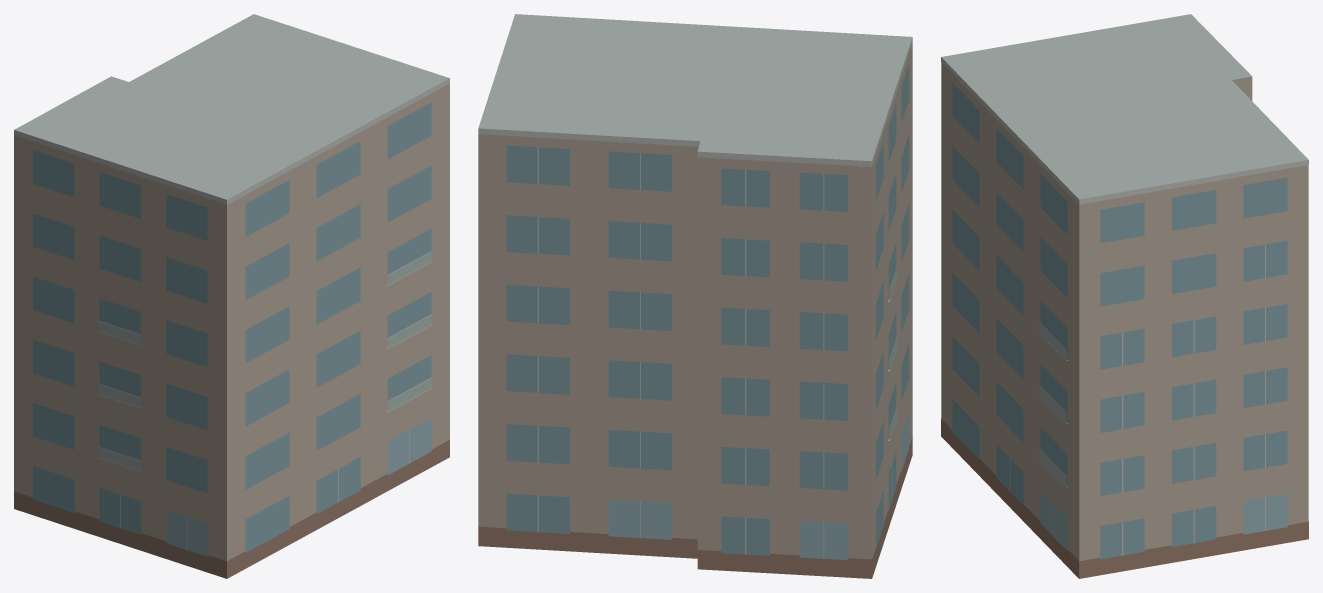
Rendered from survey-upis-33009608.glb.
The picture shows the model from 3 angles, left to right: view 1: azimuth 30°, elevation 25°; view 2: azimuth 150°, elevation 25°; view 3: azimuth 270°, elevation 25°; orthographic projection. The views are drawn at different scales.
Parts seen in each view (by area): view 1: survey-upis-33009608.tmp; view 2: survey-upis-33009608.tmp; view 3: survey-upis-33009608.tmp.
Part boxes in pixels (<box>): survey-upis-33009608.tmp: <box>14,14,449,578</box>; survey-upis-33009608.tmp: <box>478,14,912,578</box>; survey-upis-33009608.tmp: <box>941,14,1308,578</box>.
Bounding box in the file's own units: 18.73 × 17.85 × 15.69.
